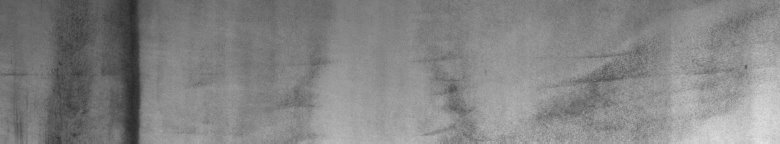ka: (4, 4, 148, 136)
